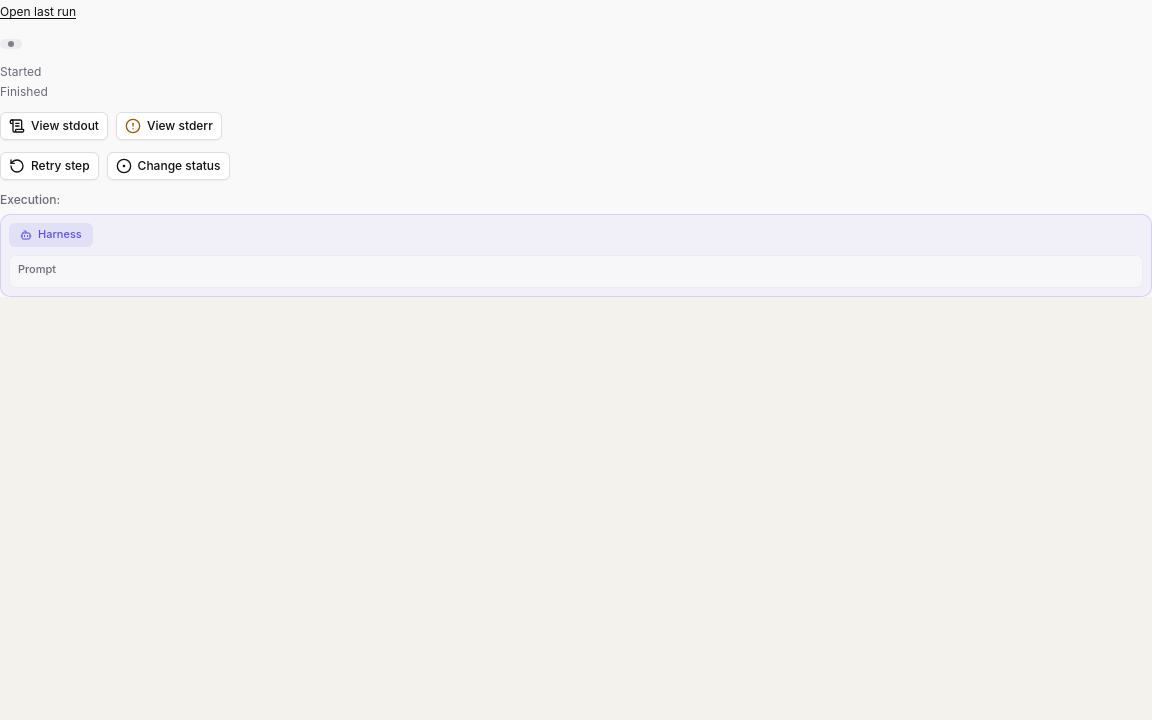
Test case: StepRunView facts › opens the retry dialog from Retry step
Click the button "Retry step": x=49, y=166 [0,152,99,180]
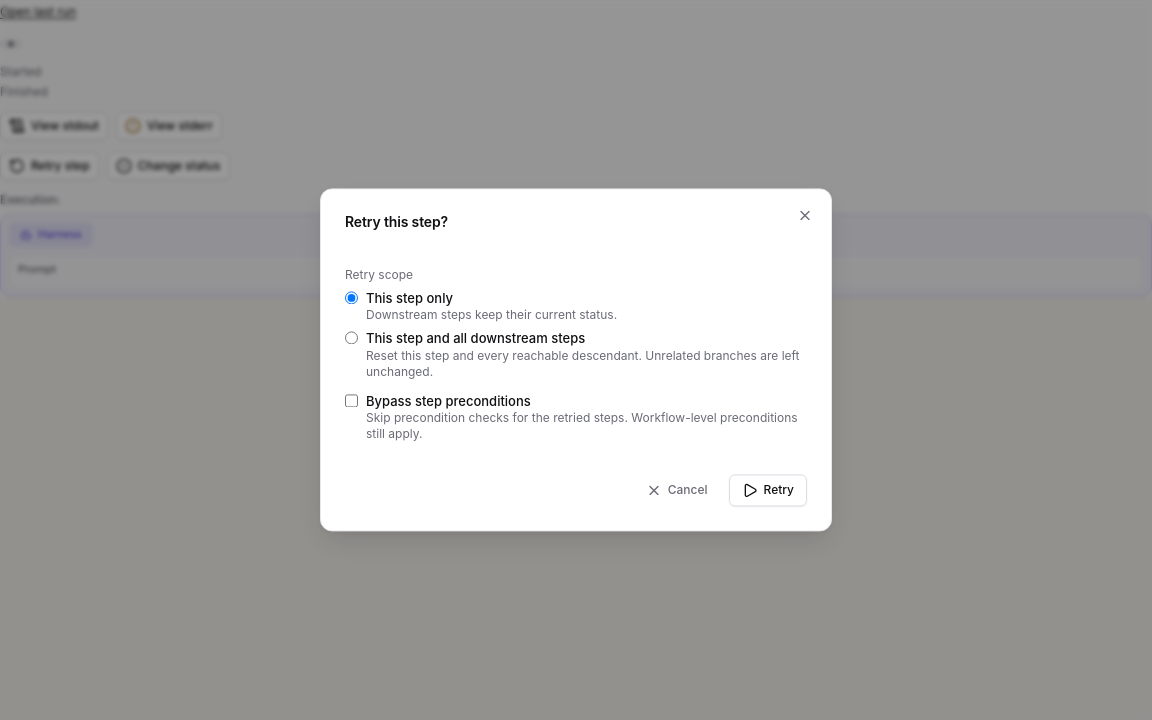
Check: the heading "Retry this step?" is shown, box [345,213,448,230]
